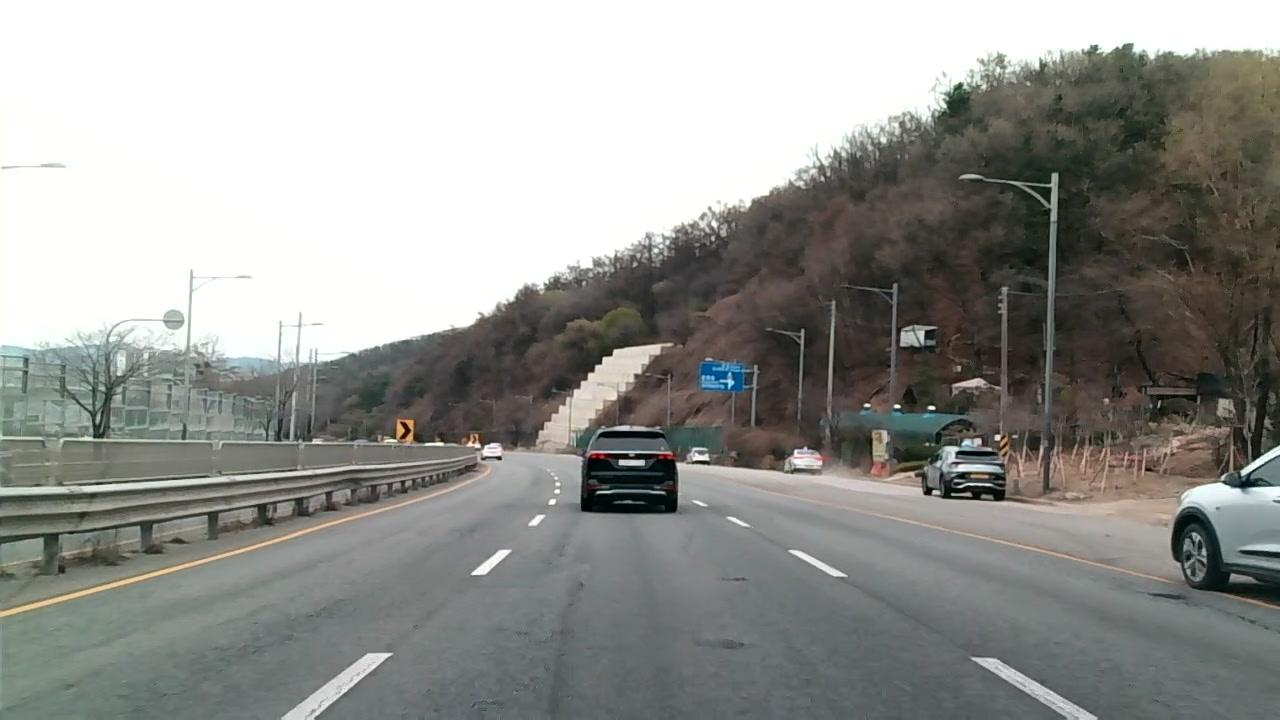erosion: (468, 629, 560, 720), (695, 629, 751, 657), (721, 572, 749, 589)
pothole: (1134, 587, 1191, 609)
vcrack: (1232, 612, 1279, 633)
